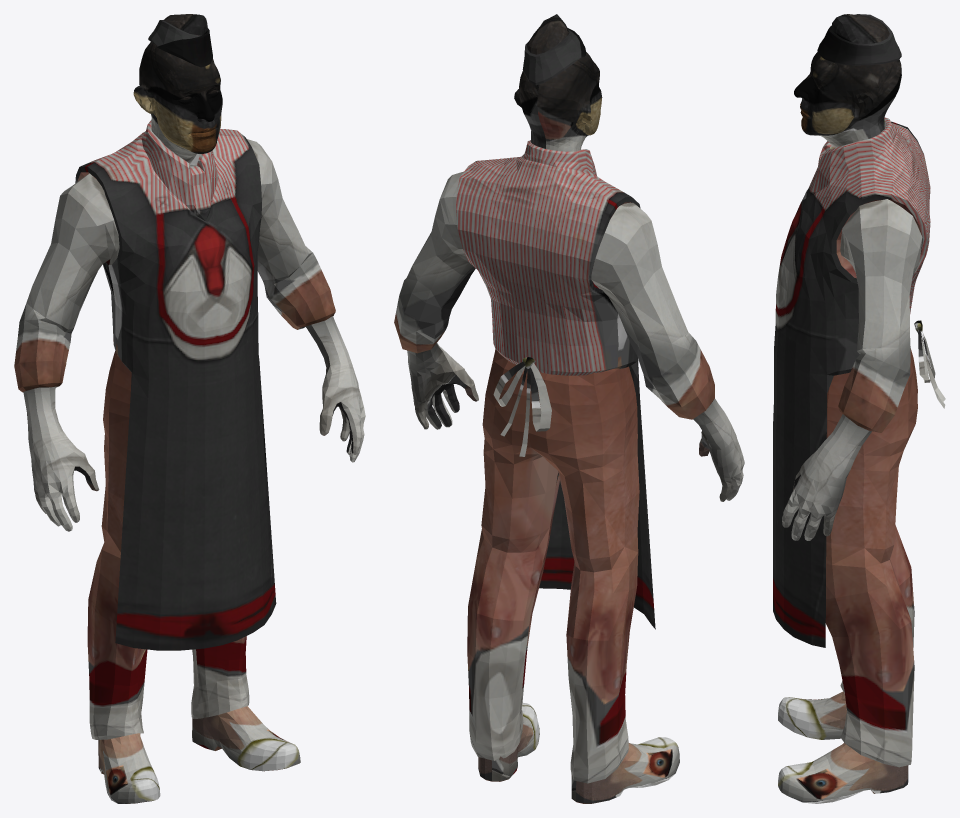
The model's file is BIO-I_PC_N.P.C_Food_Vendor.obj.
3 renders of one model, left to right at view 1: azimuth 30°, elevation 25°; view 2: azimuth 150°, elevation 25°; view 3: azimuth 270°, elevation 25°, orthographic.
Size of the model in its own units: 1.28 by 2.83 by 0.5915.
